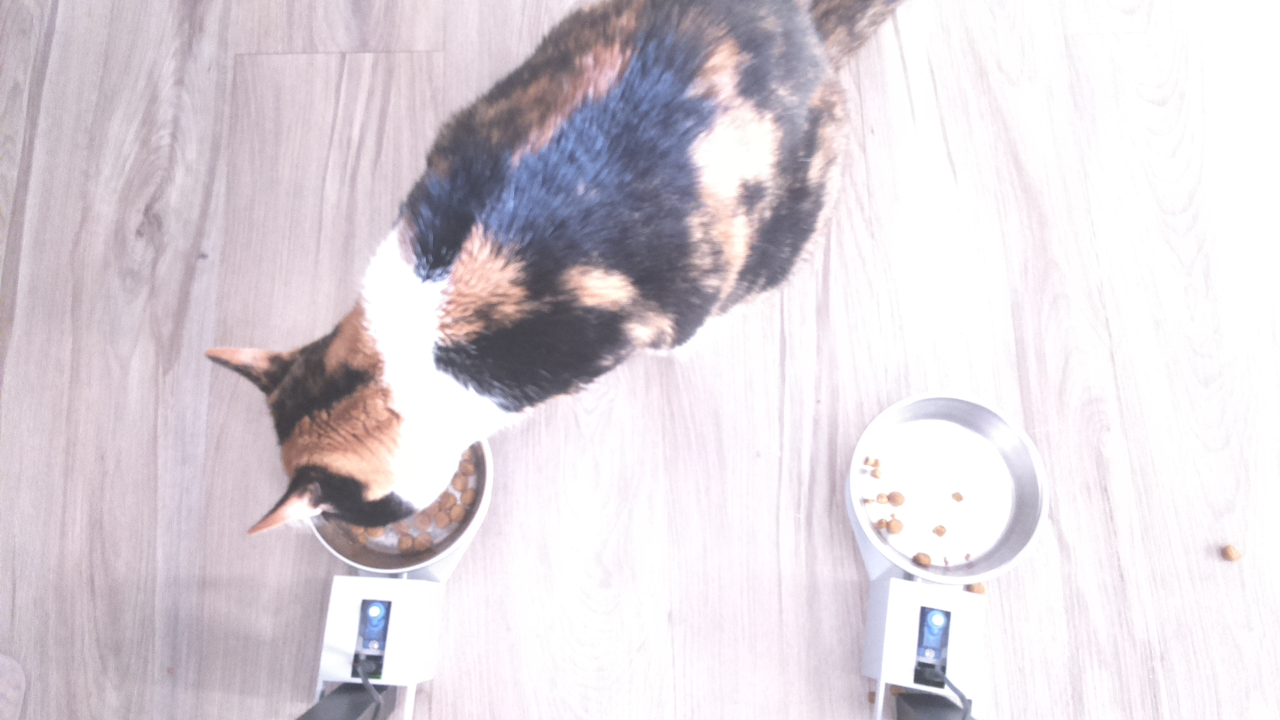bella_eating: (194, 262, 499, 576)
open_bowl: (847, 385, 1054, 586)
